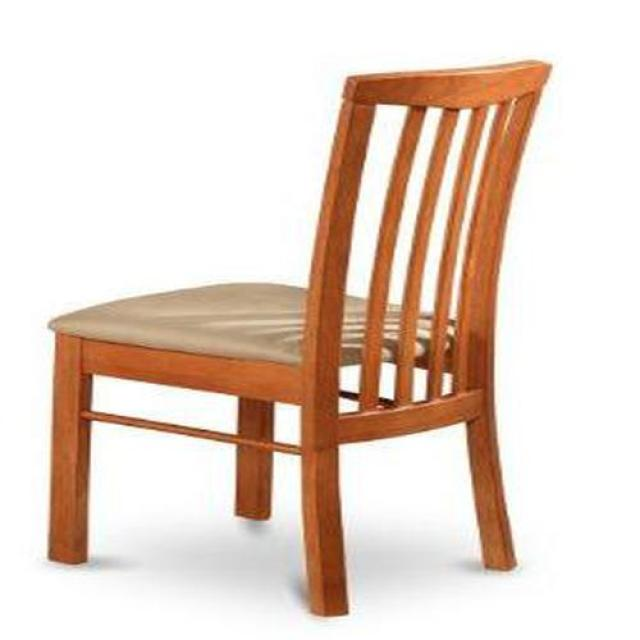chair: (49, 60, 553, 618)
